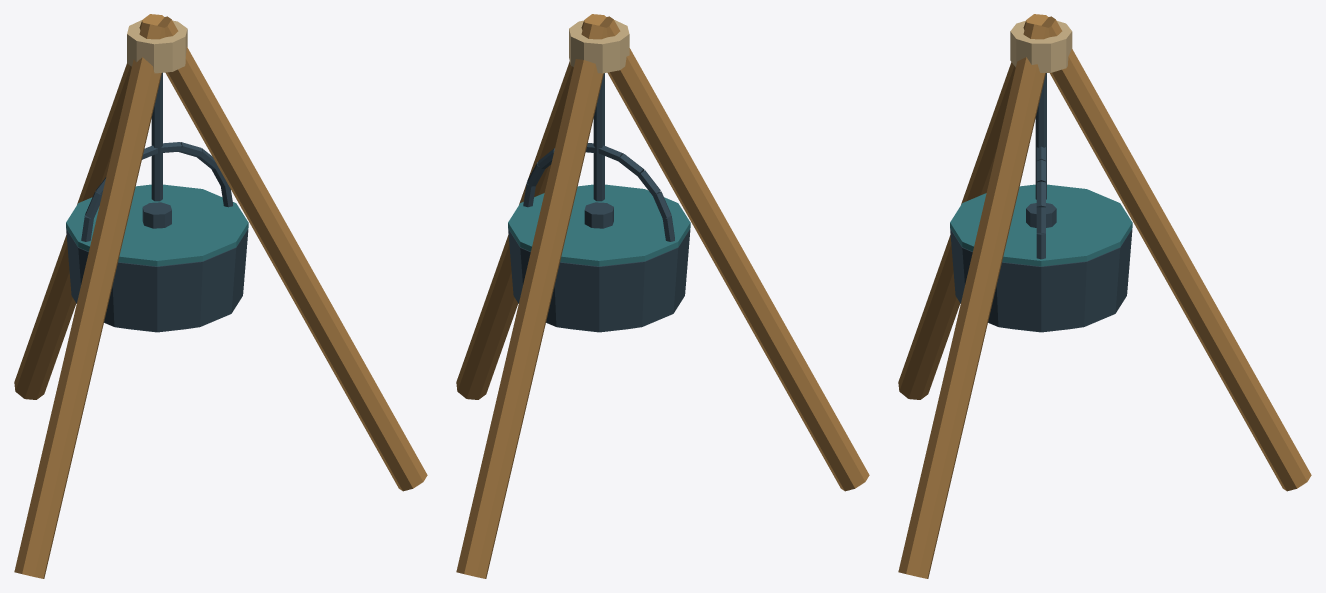
File: SM_CampCookingTripod.fbx
3 views of the same model, side by side, from view 1: azimuth 30°, elevation 25°; view 2: azimuth 150°, elevation 25°; view 3: azimuth 270°, elevation 25° (orthographic).
Parts seen in each view (by area): view 1: SM_CampCookingTripod; view 2: SM_CampCookingTripod; view 3: SM_CampCookingTripod.
Part boxes in pixels (x1,y1,x2,y2): SM_CampCookingTripod: (14,14,427,578); SM_CampCookingTripod: (456,14,869,578); SM_CampCookingTripod: (898,14,1311,578).
Size of the model in its own units: 1.61 by 1.41 by 1.76.
